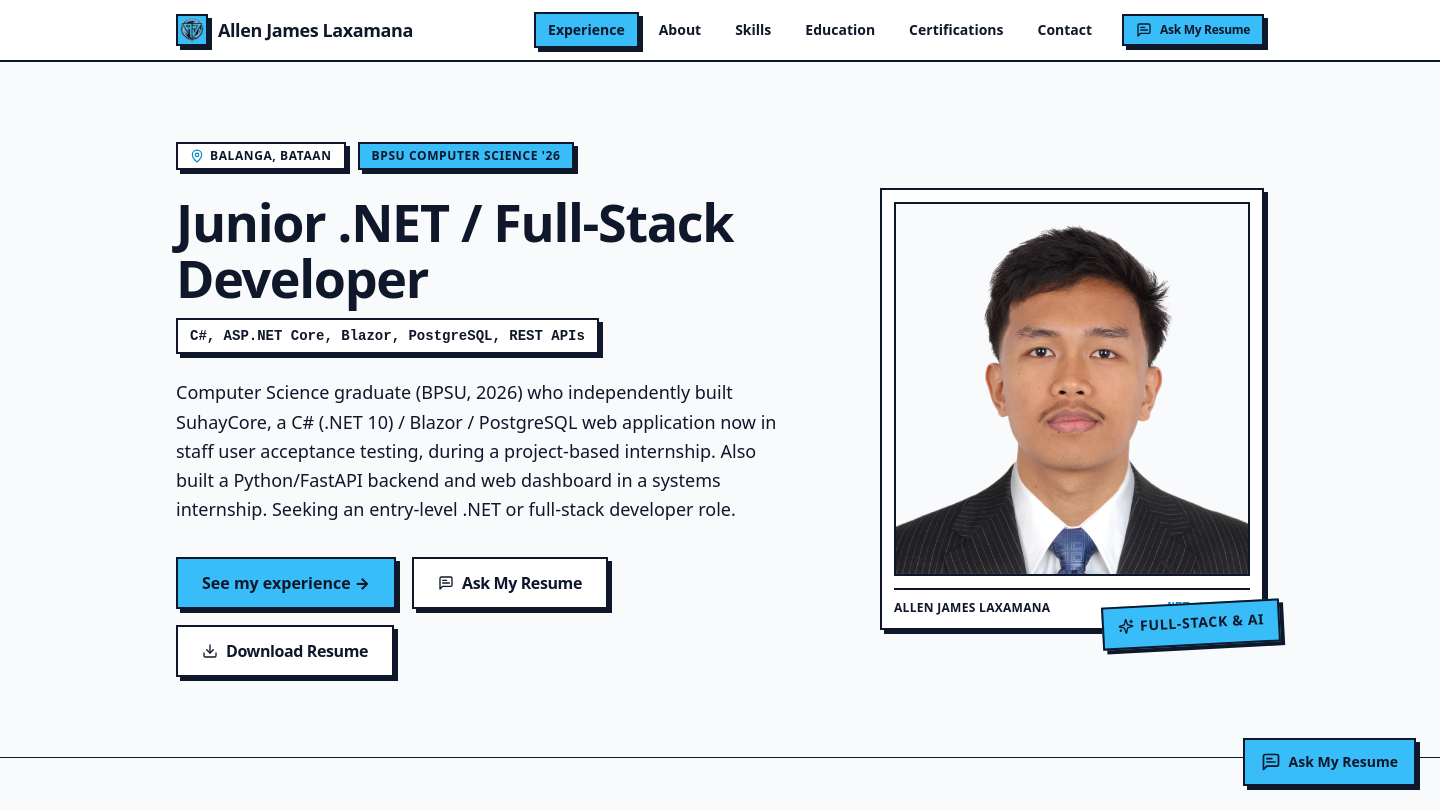
Hero Download Resume Button (003-hero-download-resume) › does not show Downloaded on 404 or network failure and announces unavailability via aria-live
Later steps or results of the test are not shown.
404 response
Click the button "Download Resume" at (285, 651), box top-left (176, 625), bottom-right (394, 677)
Network failure
Click the button "Download Resume" at (285, 651), box top-left (176, 625), bottom-right (394, 677)
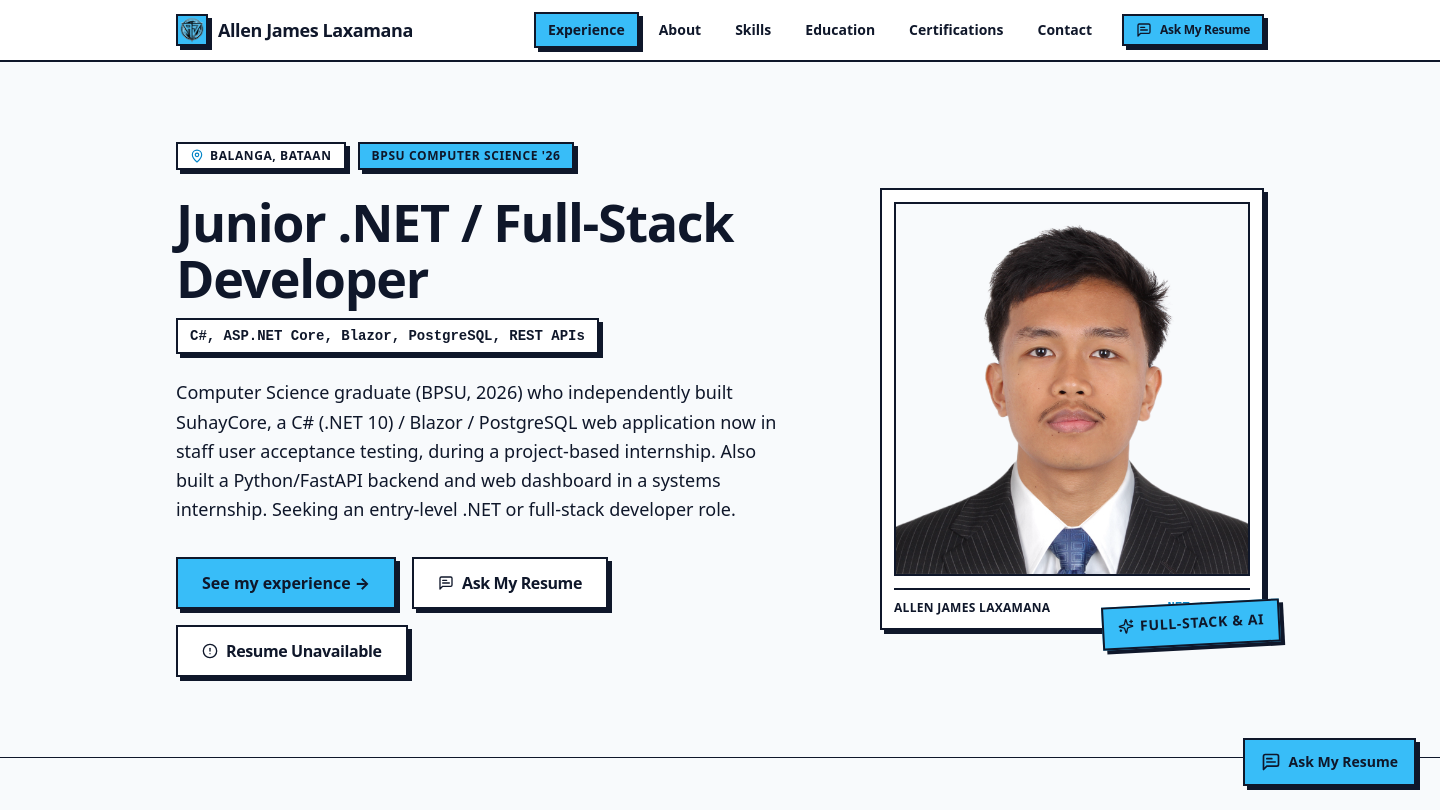
Expected: the button named "Download Resume" does not show "Downloaded", top-left (176, 625), bottom-right (408, 677)
Expected: the button named "Download Resume" reads "Resume Unavailable", top-left (176, 625), bottom-right (408, 677)
